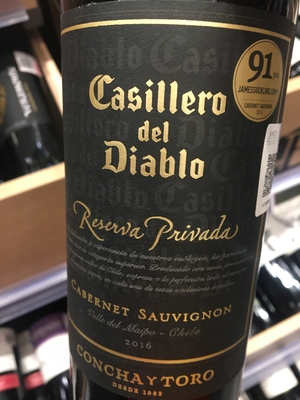casillero del diablo reserva privada cabernet sauvignon: (55, 1, 292, 400)
